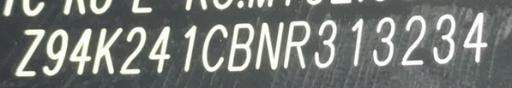letter: (10, 24, 52, 77), (250, 18, 288, 76), (461, 7, 495, 66), (428, 11, 462, 69), (279, 17, 315, 71), (116, 24, 152, 78), (309, 17, 345, 69), (396, 12, 428, 68), (198, 21, 230, 77), (369, 15, 399, 69), (342, 15, 372, 67), (225, 21, 255, 73), (148, 22, 178, 74), (94, 24, 124, 75), (42, 27, 72, 77), (174, 22, 202, 73), (68, 24, 96, 74)
